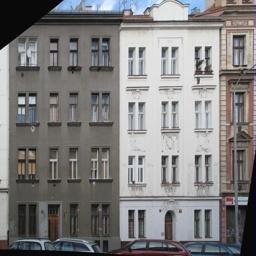building: (4, 0, 120, 254), (122, 0, 227, 256)
